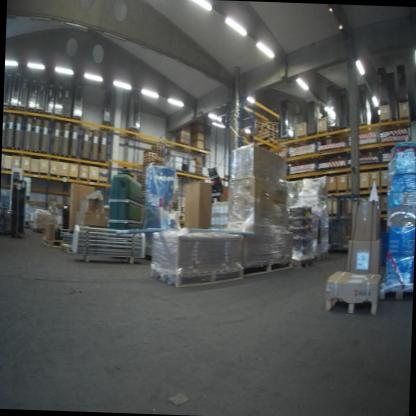pallet: (379, 278, 414, 303), (293, 256, 315, 269), (314, 248, 329, 263), (61, 241, 76, 255), (42, 237, 61, 248), (126, 127, 140, 133), (71, 115, 82, 122), (328, 126, 338, 133), (53, 112, 64, 118), (307, 131, 316, 138), (34, 109, 44, 115), (101, 121, 111, 127), (380, 100, 390, 106), (44, 111, 54, 116), (22, 147, 32, 152), (63, 114, 72, 119), (26, 108, 35, 113), (399, 98, 408, 103), (18, 107, 26, 112), (10, 106, 18, 111), (4, 146, 13, 150), (12, 147, 21, 151), (3, 106, 9, 110)
